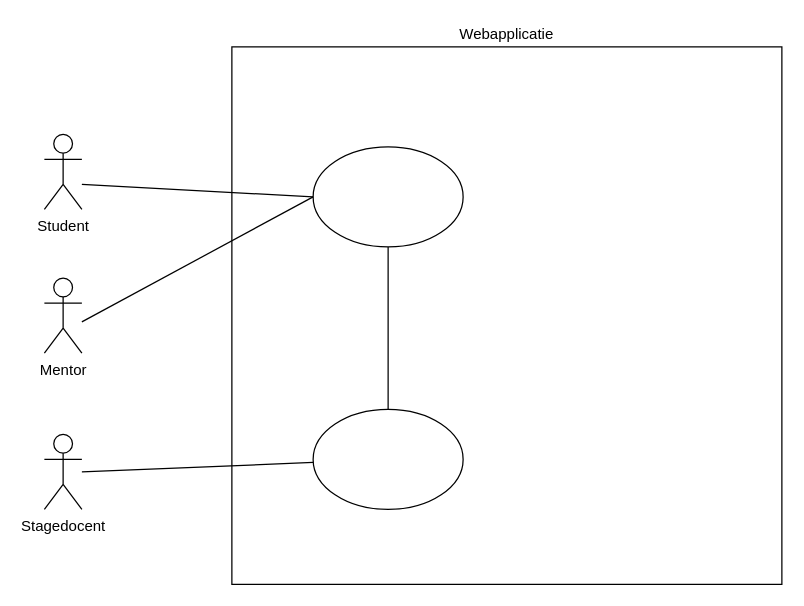
Image size: 804x606. Some labels were removed from this diagram. Here are the shapes that lost their labels. From the top down, the centre of each, then its label:
[387,196]: Kan de notitie zien
[387,458]: Maakt notitie over voortgang of stagebezoek
